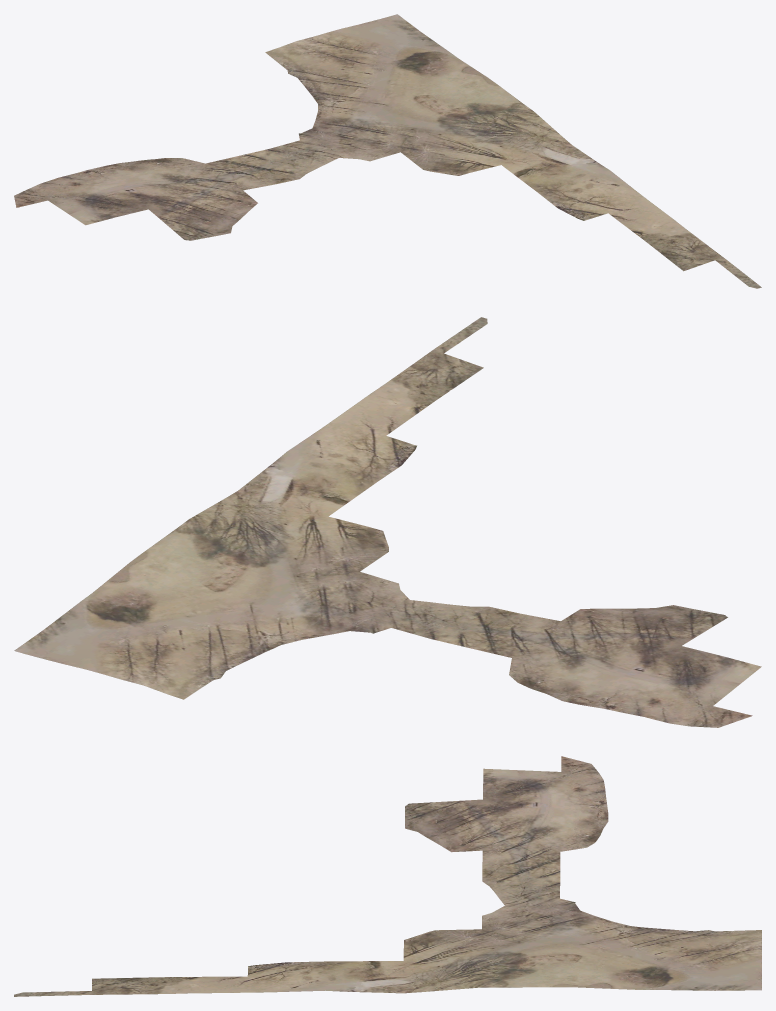
Rendered from CM_Terrain_24486568_6818975.fbx.
The picture shows the model from 3 angles, top to bottom: view 1: azimuth 30°, elevation 25°; view 2: azimuth 150°, elevation 25°; view 3: azimuth 270°, elevation 25°; orthographic projection. The views are drawn at different scales.
Parts seen in each view (by area): view 1: CM_Terrain_24486568_6818975_LOD0; view 2: CM_Terrain_24486568_6818975_LOD0; view 3: CM_Terrain_24486568_6818975_LOD0.
Part boxes in pixels (<box>): CM_Terrain_24486568_6818975_LOD0: <box>14,14,761,288</box>; CM_Terrain_24486568_6818975_LOD0: <box>14,317,761,727</box>; CM_Terrain_24486568_6818975_LOD0: <box>14,756,761,996</box>.
Size of what is drawn, in the model's own units: 109 by 2.6 by 144.
